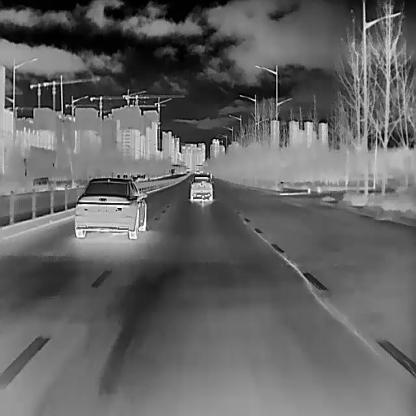car: (74, 176, 146, 238), (189, 174, 212, 202), (32, 175, 49, 190)
